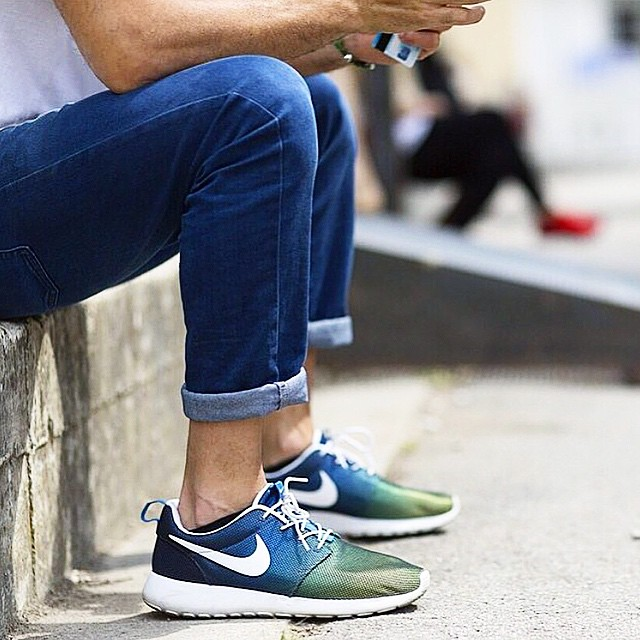sneaker: (126, 463, 443, 631), (241, 412, 467, 550)
